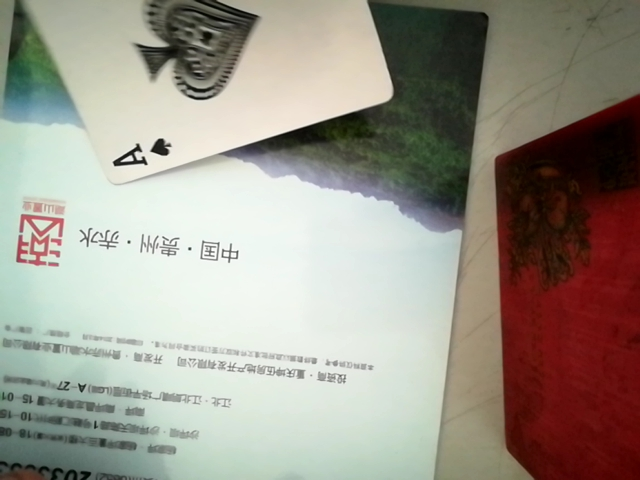ht a: (3, 0, 406, 184)
